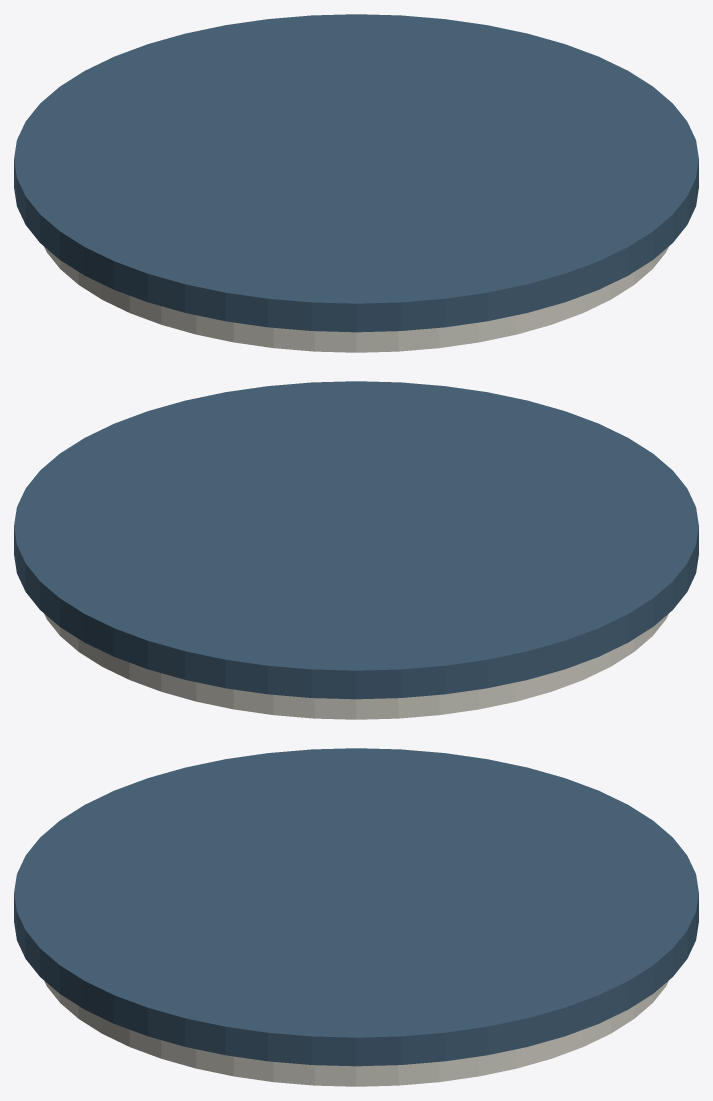
The model's file is 29_L78_LowKDielectricGasShowerhead.fbx.
3 views of the same model, one above another, from view 1: azimuth 30°, elevation 25°; view 2: azimuth 150°, elevation 25°; view 3: azimuth 270°, elevation 25° (orthographic).
Visible parts, largest first — view 1: LowKDielectricGasShowerhead; view 2: LowKDielectricGasShowerhead; view 3: LowKDielectricGasShowerhead.
Boxes of the visible parts, x1,y1,x2,y2 form: LowKDielectricGasShowerhead: [14, 14, 698, 352]; LowKDielectricGasShowerhead: [14, 381, 698, 719]; LowKDielectricGasShowerhead: [14, 748, 698, 1086].
Bounding box in the file's own units: 282 × 31.1 × 282.
